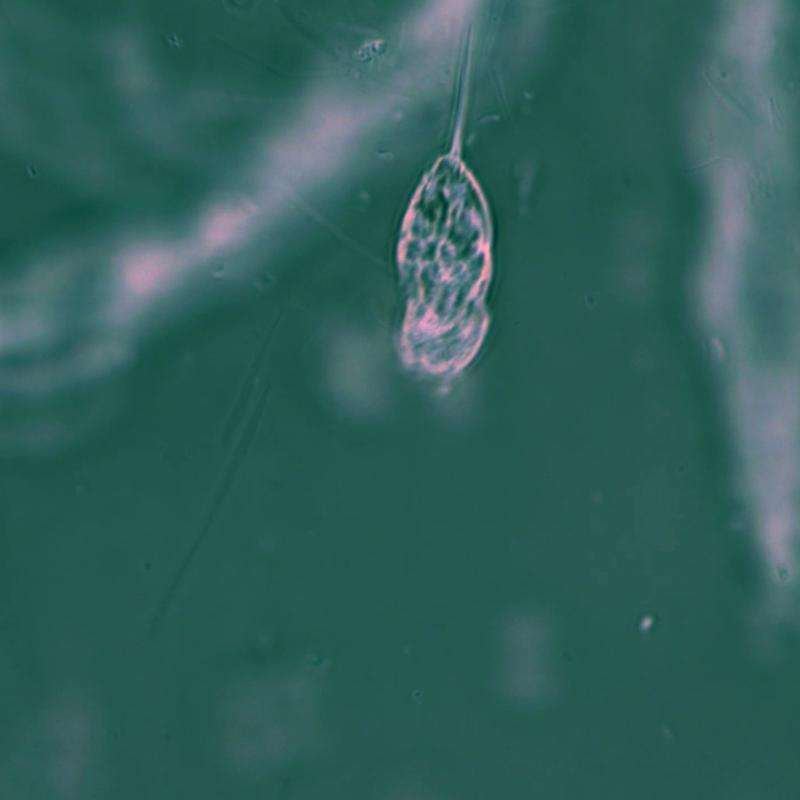depth:20: (381, 19, 550, 388)
